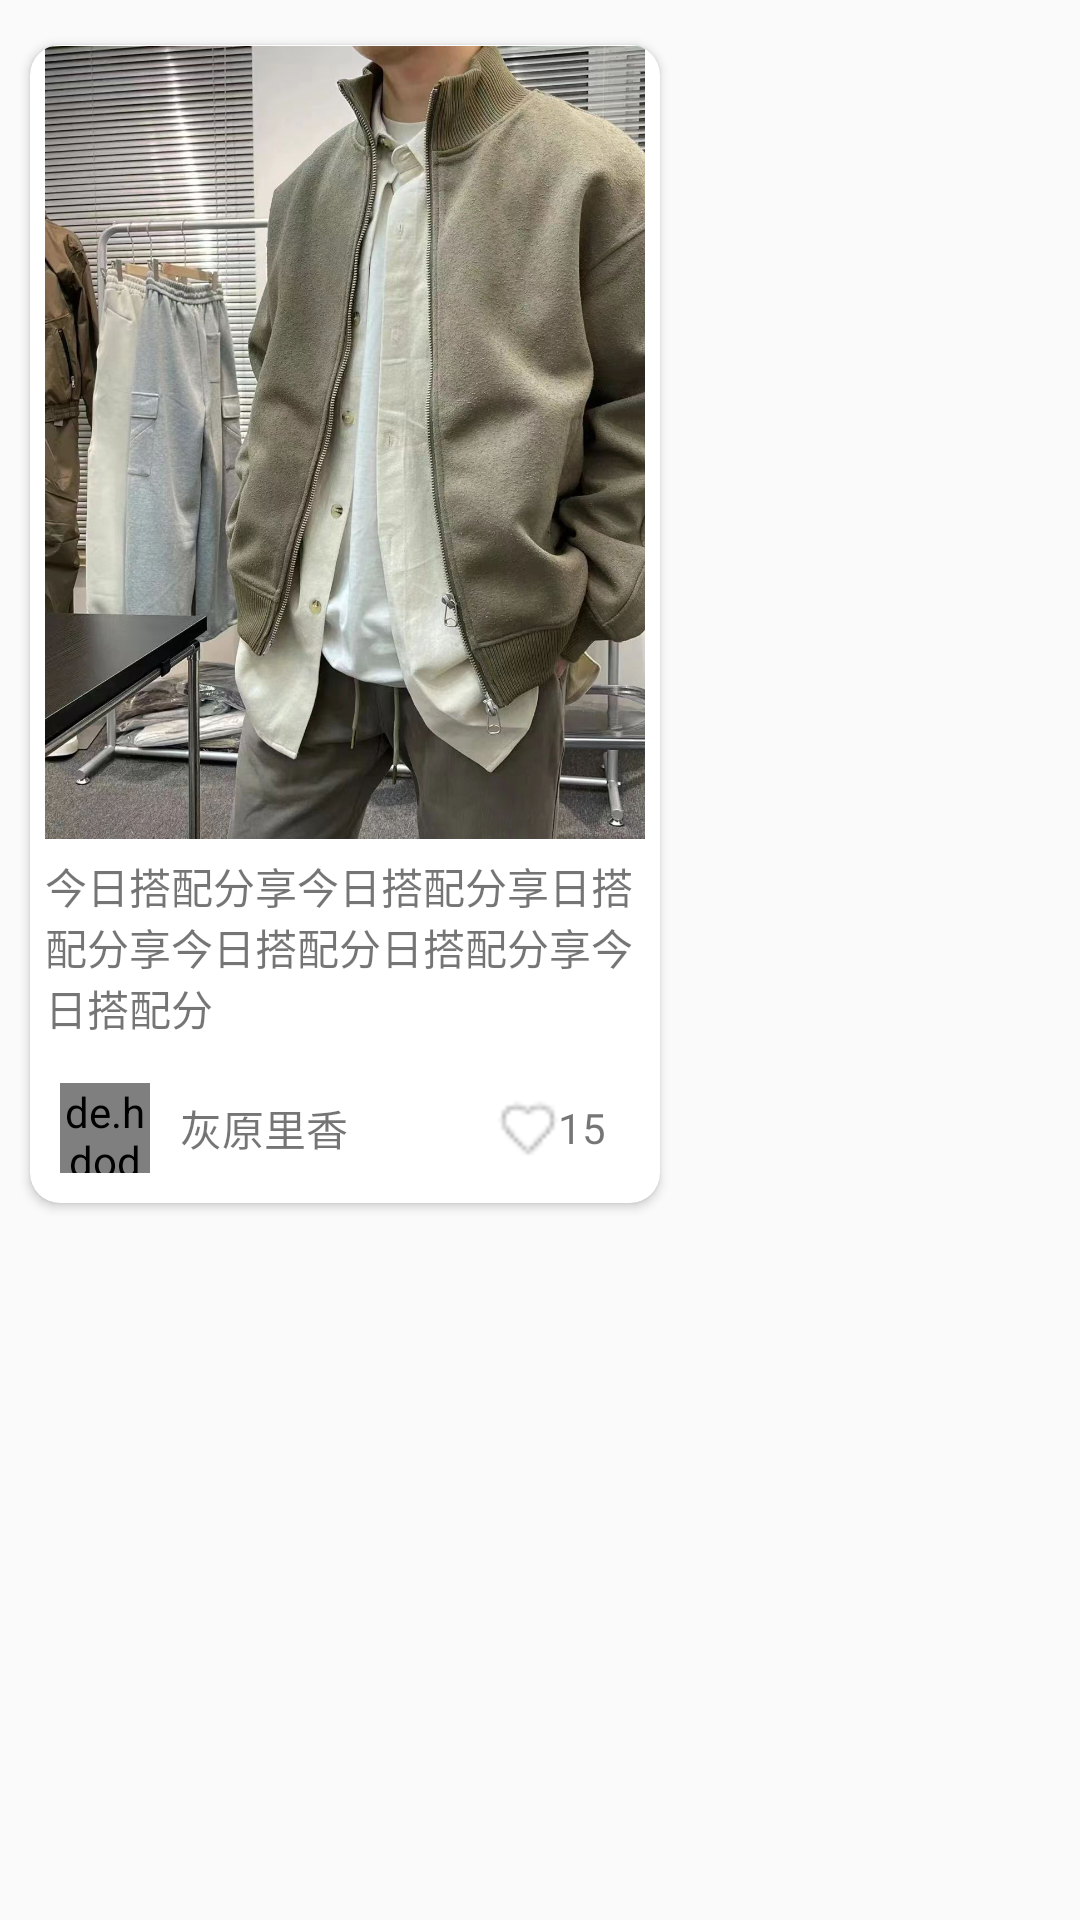

Icon click points for this 1080x1920 phone screenshot, format [x,y]:
like: [528,1129]
